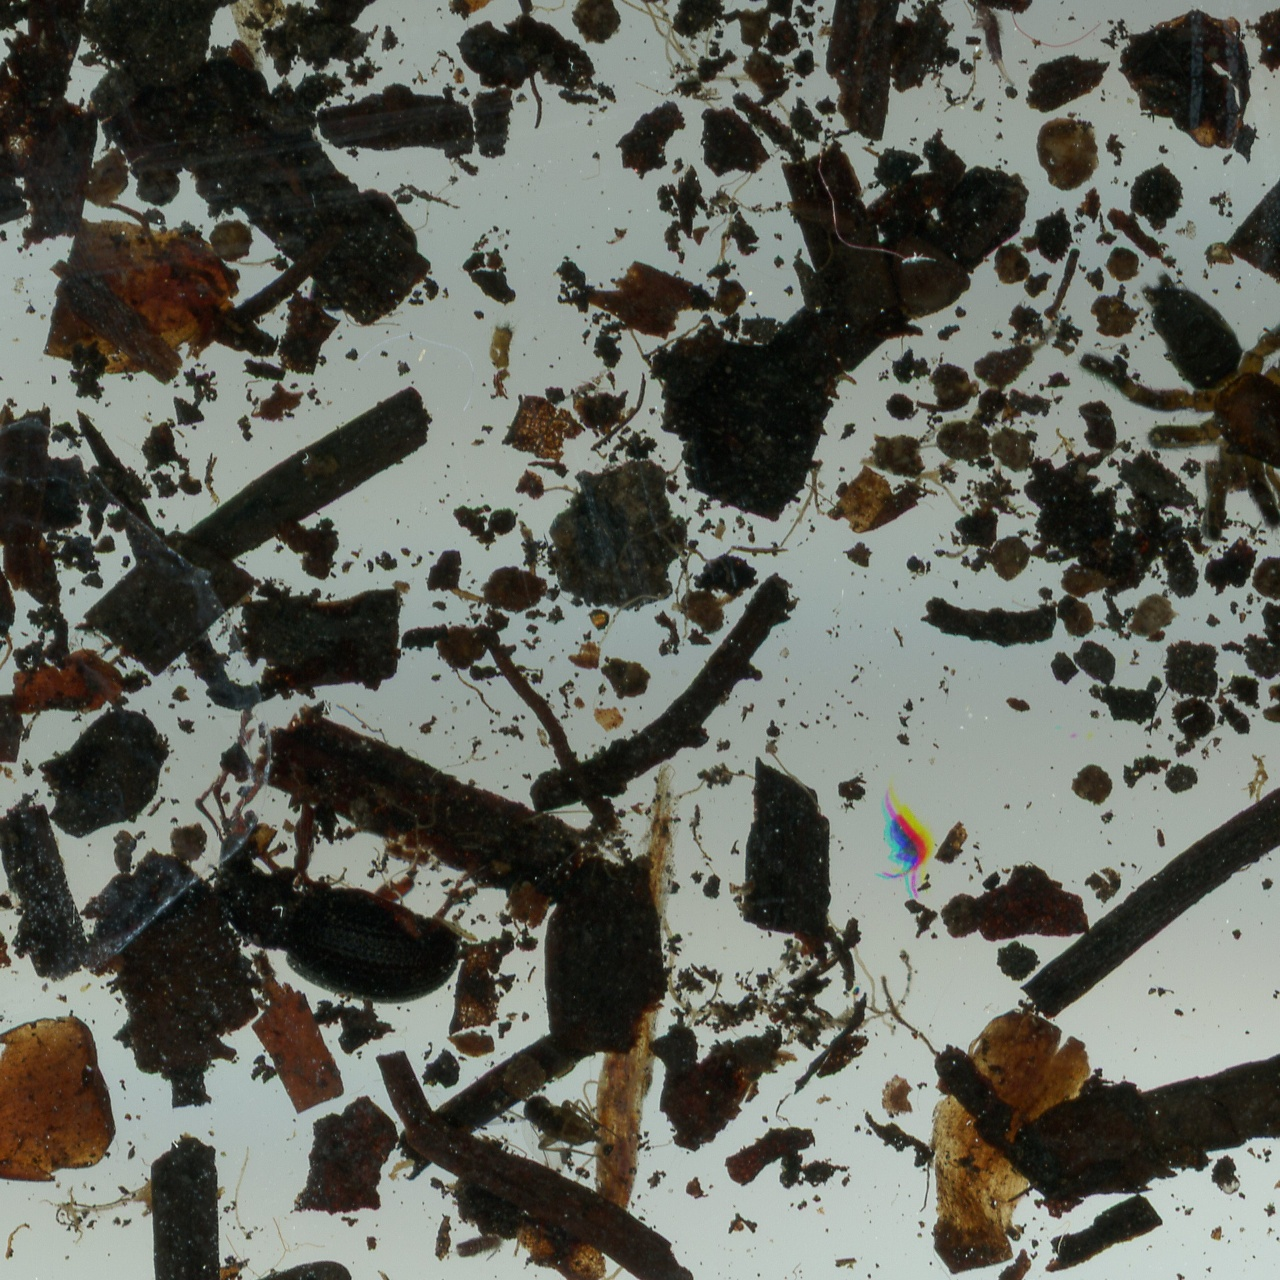arthropod: (1081, 272, 1280, 543), (213, 833, 462, 1003), (519, 1092, 607, 1159), (879, 788, 925, 896), (971, 4, 1016, 87)
